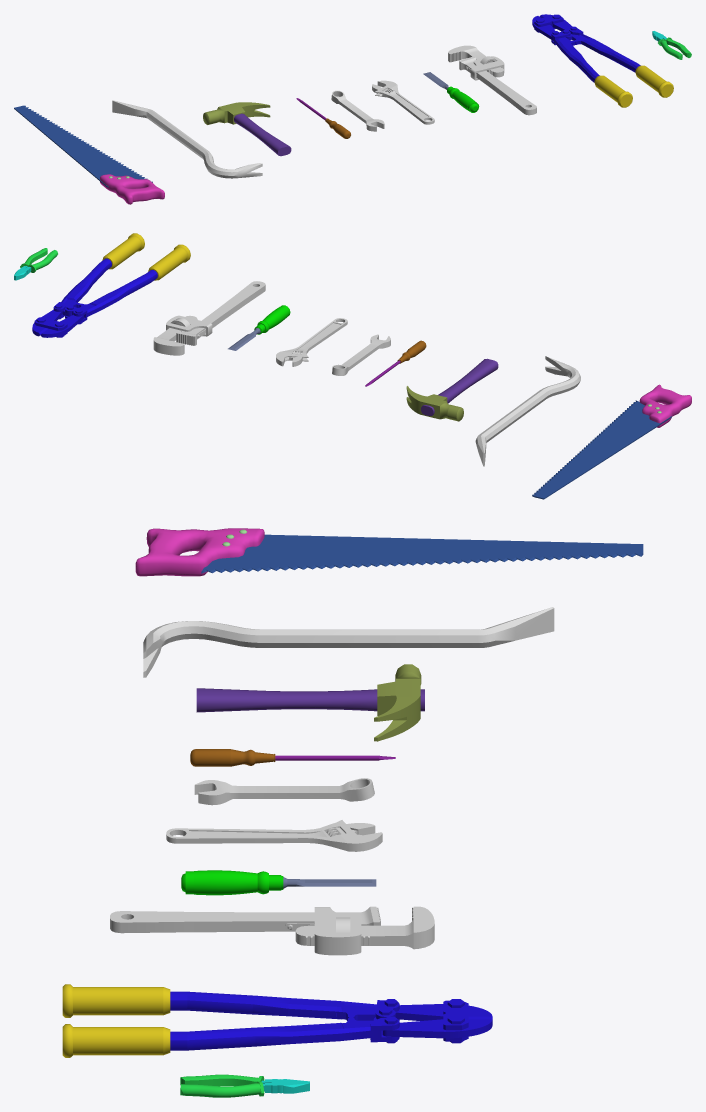
File: Garage Props3.fbx
The picture shows the model from 3 angles, top to bottom: view 1: azimuth 30°, elevation 25°; view 2: azimuth 150°, elevation 25°; view 3: azimuth 270°, elevation 25°; orthographic projection. The views are drawn at different scales.
Parts seen in each view (by area): view 1: Hand_Saw, Bolt_Cutter, Pipe_Wrench, Nail_Puller, Hammer, Adjustable_Wrench, Wrench, Chisel, Pliers, Screwdriver; view 2: Hand_Saw, Bolt_Cutter, Pipe_Wrench, Hammer, Nail_Puller, Adjustable_Wrench, Chisel, Wrench, Pliers, Screwdriver; view 3: Bolt_Cutter, Hand_Saw, Pipe_Wrench, Nail_Puller, Hammer, Adjustable_Wrench, Chisel, Wrench, Pliers, Screwdriver.
Boxes of the visible parts, x1=… form: Hand_Saw: x1=14, y1=105, x2=164, y2=204; Bolt_Cutter: x1=532, y1=14, x2=673, y2=107; Pipe_Wrench: x1=448, y1=45, x2=536, y2=115; Nail_Puller: x1=112, y1=100, x2=262, y2=178; Hammer: x1=203, y1=102, x2=291, y2=156; Adjustable_Wrench: x1=372, y1=80, x2=434, y2=124; Wrench: x1=331, y1=90, x2=384, y2=131; Chisel: x1=423, y1=72, x2=479, y2=112; Pliers: x1=652, y1=31, x2=691, y2=59; Screwdriver: x1=296, y1=98, x2=350, y2=138; Hand_Saw: x1=532, y1=384, x2=691, y2=499; Bolt_Cutter: x1=32, y1=233, x2=190, y2=337; Pipe_Wrench: x1=153, y1=281, x2=265, y2=355; Hammer: x1=406, y1=358, x2=498, y2=421; Nail_Puller: x1=475, y1=356, x2=580, y2=466; Adjustable_Wrench: x1=276, y1=318, x2=347, y2=366; Chisel: x1=228, y1=305, x2=290, y2=350; Wrench: x1=332, y1=334, x2=390, y2=375; Pliers: x1=14, y1=248, x2=57, y2=280; Screwdriver: x1=365, y1=340, x2=426, y2=386; Bolt_Cutter: x1=62, y1=984, x2=492, y2=1057; Hand_Saw: x1=135, y1=528, x2=643, y2=576; Pipe_Wrench: x1=110, y1=906, x2=434, y2=955; Nail_Puller: x1=143, y1=607, x2=554, y2=677; Hammer: x1=196, y1=664, x2=424, y2=741; Adjustable_Wrench: x1=166, y1=820, x2=382, y2=851; Chisel: x1=181, y1=870, x2=376, y2=895; Wrench: x1=194, y1=778, x2=374, y2=805; Pliers: x1=180, y1=1074, x2=309, y2=1097; Screwdriver: x1=190, y1=749, x2=395, y2=766.
Bounding box in the file's own units: 1.85 × 0.0501 × 0.8067.
